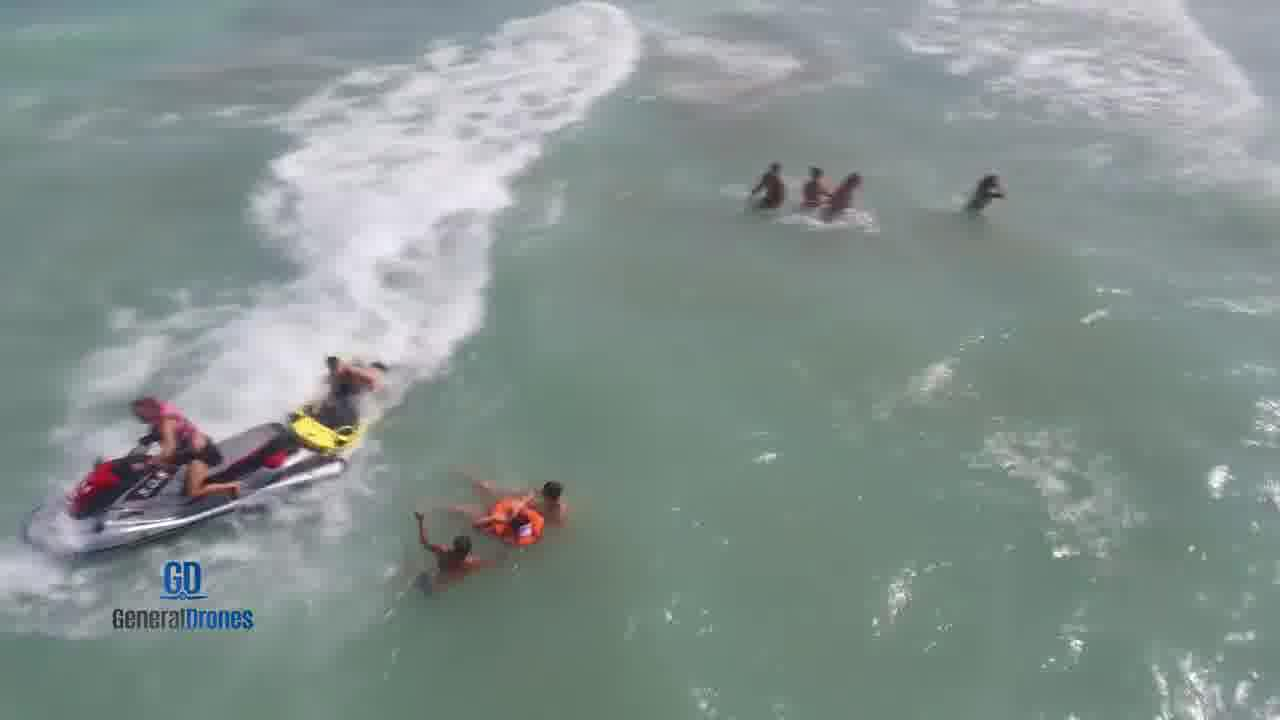human: (305, 350, 382, 409), (833, 156, 884, 232), (530, 454, 590, 514), (961, 159, 1008, 219), (493, 492, 533, 558), (428, 526, 467, 582), (793, 150, 825, 213), (757, 155, 782, 223)
